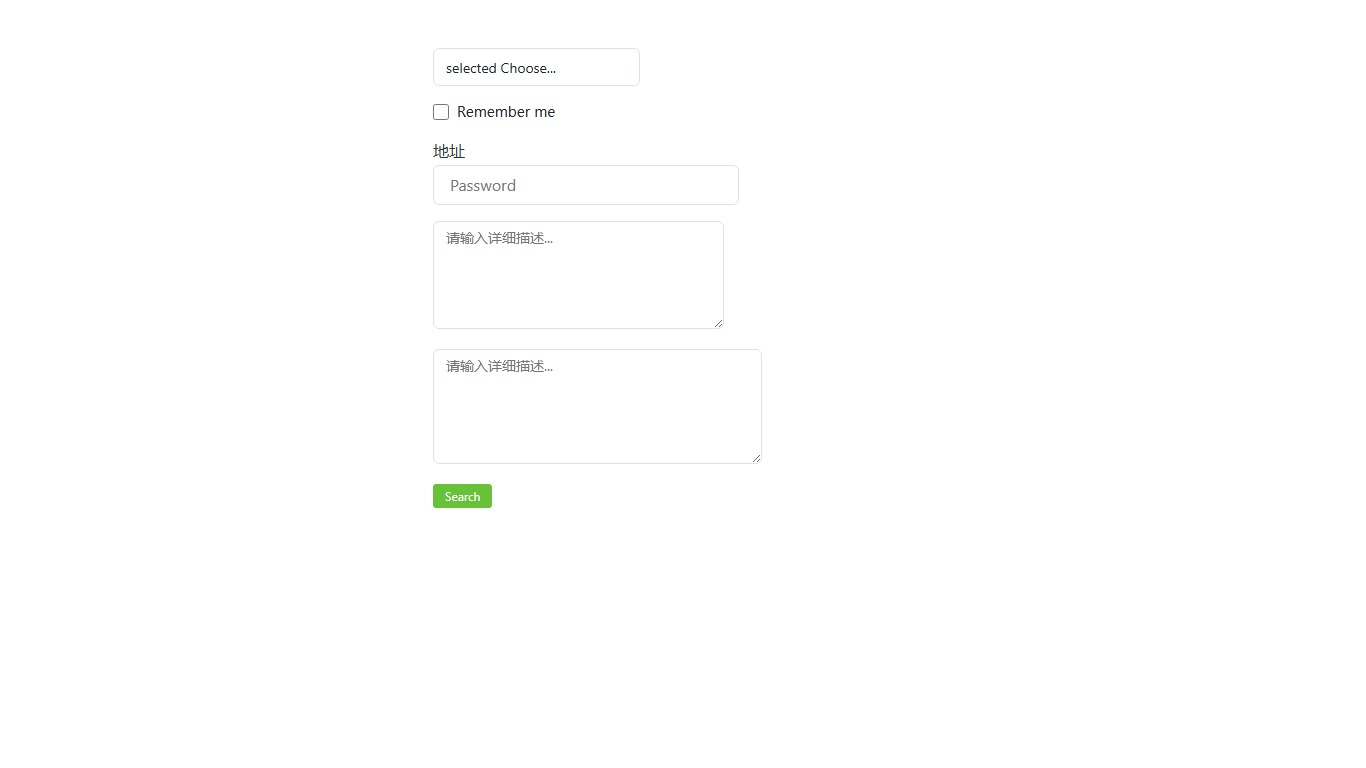button: (433, 483, 492, 507)
checkbox: (433, 103, 449, 119)
icon: (457, 102, 555, 121)
input: (433, 164, 739, 204)
radio: (433, 102, 555, 121)
select: (433, 48, 640, 86)
textarea: (433, 348, 762, 464), (433, 221, 724, 329)
